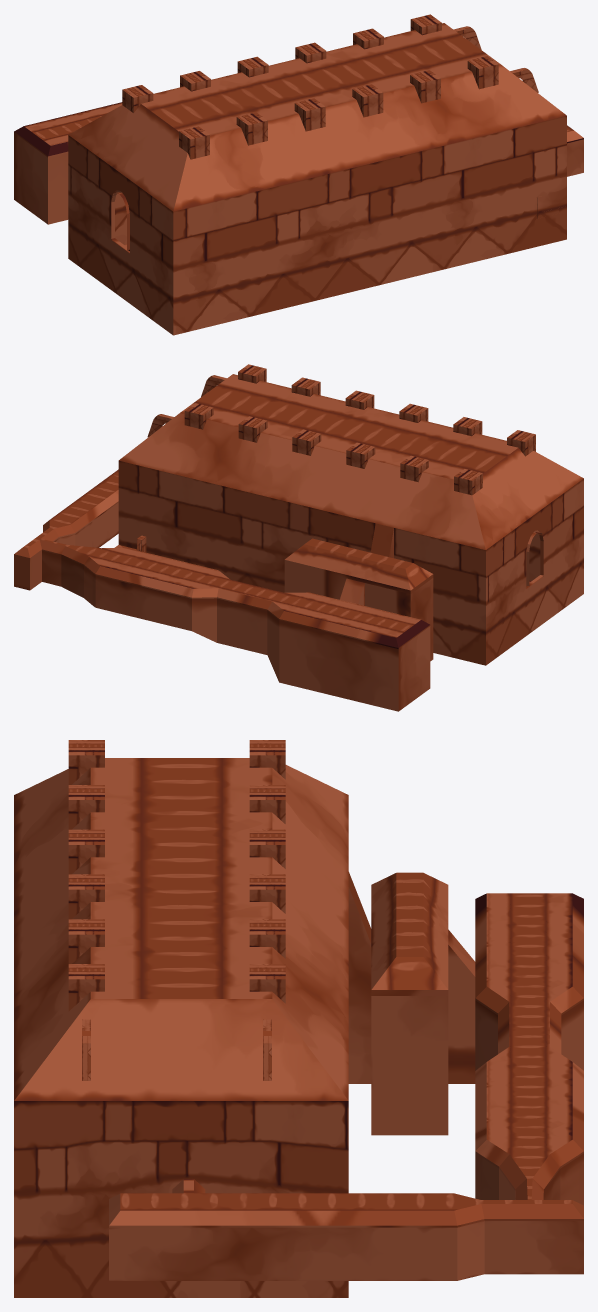
Rendered from church_01.gltf.
3 renders of one model, top to bottom at view 1: azimuth 30°, elevation 25°; view 2: azimuth 150°, elevation 25°; view 3: azimuth 270°, elevation 25°, orthographic. The views are drawn at different scales.
Parts seen in each view (by area): view 1: church_01<trimesh>; view 2: church_01<trimesh>; view 3: church_01<trimesh>.
Part boxes in pixels (x1=…): church_01<trimesh>: x1=14, y1=14, x2=583, y2=335; church_01<trimesh>: x1=14, y1=364, x2=583, y2=711; church_01<trimesh>: x1=14, y1=740, x2=583, y2=1297.
Size of the model in its own units: 180 by 68.45 by 126.
Materials: 1 (1 with a texture image).
